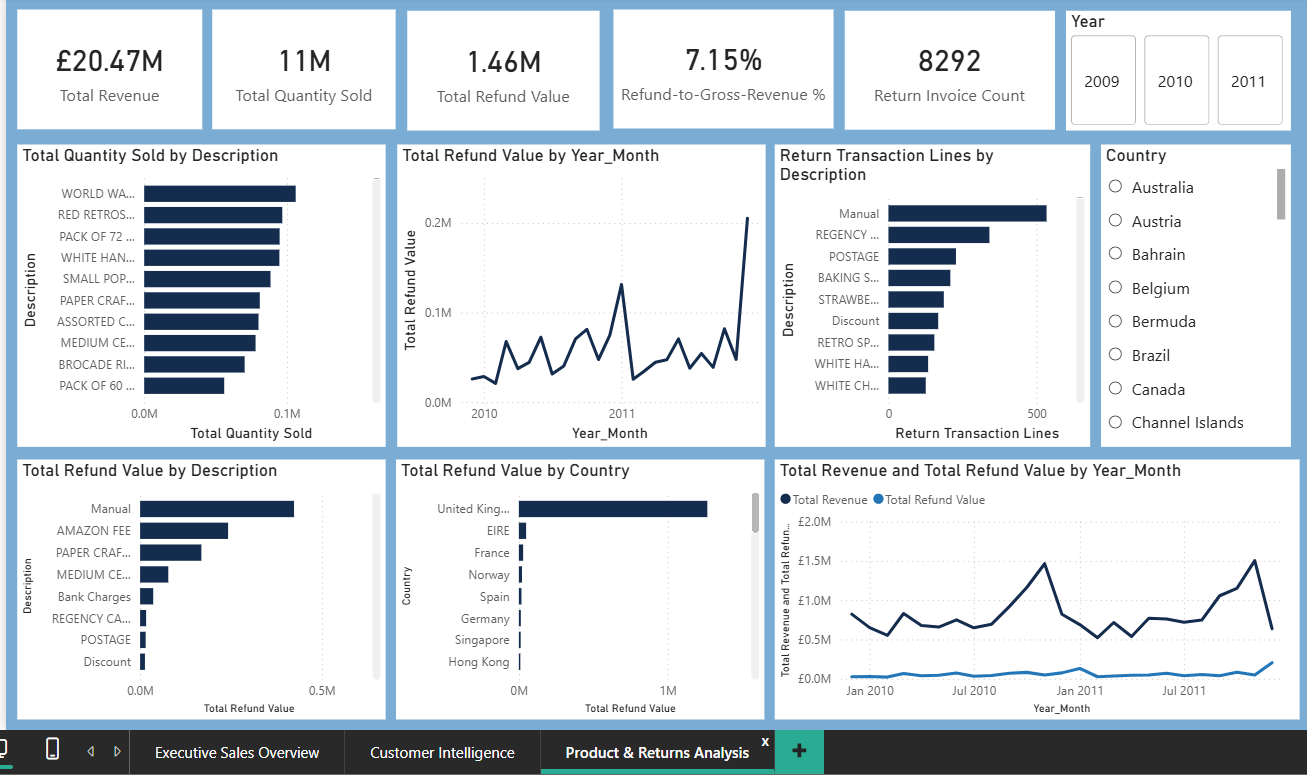

This screenshot's page, from the dashboard's own definition file:
{"tool":"powerbi","page":{"name":"Product & Returns Analysis","canvas":[1280,720],"ordinal":2},"visuals":[{"type":"card","fields":{"Values":["fact_sales.Total Revenue"]},"box":[11,12.3,181.6,117.8],"z":0},{"type":"card","fields":{"Values":["fact_sales.Total Quantity Sold"]},"box":[202.5,12.3,180.4,117.8],"z":1000},{"type":"card","fields":{"Values":["fact_returns.Total Refund Value"]},"box":[393.9,13.5,189,117.8],"z":2000},{"type":"card","fields":{"Values":["fact_returns.Refund-to-Gross-Revenue %"]},"box":[596.3,12.3,216,116.6],"z":3000},{"type":"card","fields":{"Values":["fact_returns.Return Invoice Count"]},"box":[823.3,13.5,206.1,116.6],"z":4000},{"type":"clusteredBarChart","fields":{"Category":["dim_product.Description"],"Y":["fact_sales.Total Quantity Sold"]},"box":[11,144.8,362,296.9],"z":5000},{"type":"clusteredBarChart","fields":{"Y":["fact_returns.Total Refund Value"],"Category":["dim_product.Description"]},"box":[11,454,362,255.2],"z":6000},{"type":"lineChart","fields":{"Category":["dim_date.Year_Month"],"Y":["fact_returns.Total Refund Value"]},"box":[384.1,144.8,362,296.9],"z":7000},{"type":"clusteredBarChart","fields":{"Category":["dim_country.Country"],"Y":["fact_returns.Total Refund Value"]},"box":[382.8,454,362,255.2],"z":8000},{"type":"lineChart","fields":{"Y":["fact_sales.Total Revenue","fact_returns.Total Refund Value"],"Category":["dim_date.Year_Month"]},"box":[754.6,454,515.3,255.2],"z":9000},{"type":"clusteredBarChart","fields":{"Y":["fact_returns.Return Transaction Lines"],"Category":["dim_product.Description"]},"box":[754.6,144.8,309.2,296.9],"z":10000},{"type":"listSlicer","fields":{"Values":["dim_country.Country"]},"box":[1074.9,144.8,186.5,296.9],"z":10001},{"type":"advancedSlicerVisual","fields":{"Values":["dim_date.Year"]},"box":[1040.5,13.5,220.9,117.8],"z":10002}]}

Visuals, with their boxes on the page's 1280x720 design canvas (x1, y1, x2, y2). These are canvas units, not pixel positions in the 1307x775 screenshot, which may show the page scaled, cropped or inside an application window:
card - fact_sales.Total Revenue: region(11, 12, 193, 130)
card - fact_sales.Total Quantity Sold: region(202, 12, 383, 130)
card - fact_returns.Total Refund Value: region(394, 14, 583, 131)
card - fact_returns.Refund-to-Gross-Revenue %: region(596, 12, 812, 129)
card - fact_returns.Return Invoice Count: region(823, 14, 1029, 130)
clusteredBarChart - dim_product.Description x fact_sales.Total Quantity Sold: region(11, 145, 373, 442)
clusteredBarChart - fact_returns.Total Refund Value x dim_product.Description: region(11, 454, 373, 709)
lineChart - dim_date.Year_Month x fact_returns.Total Refund Value: region(384, 145, 746, 442)
clusteredBarChart - dim_country.Country x fact_returns.Total Refund Value: region(383, 454, 745, 709)
lineChart - fact_sales.Total Revenue x fact_returns.Total Refund Value: region(755, 454, 1270, 709)
clusteredBarChart - fact_returns.Return Transaction Lines x dim_product.Description: region(755, 145, 1064, 442)
listSlicer - dim_country.Country: region(1075, 145, 1261, 442)
advancedSlicerVisual - dim_date.Year: region(1040, 14, 1261, 131)
